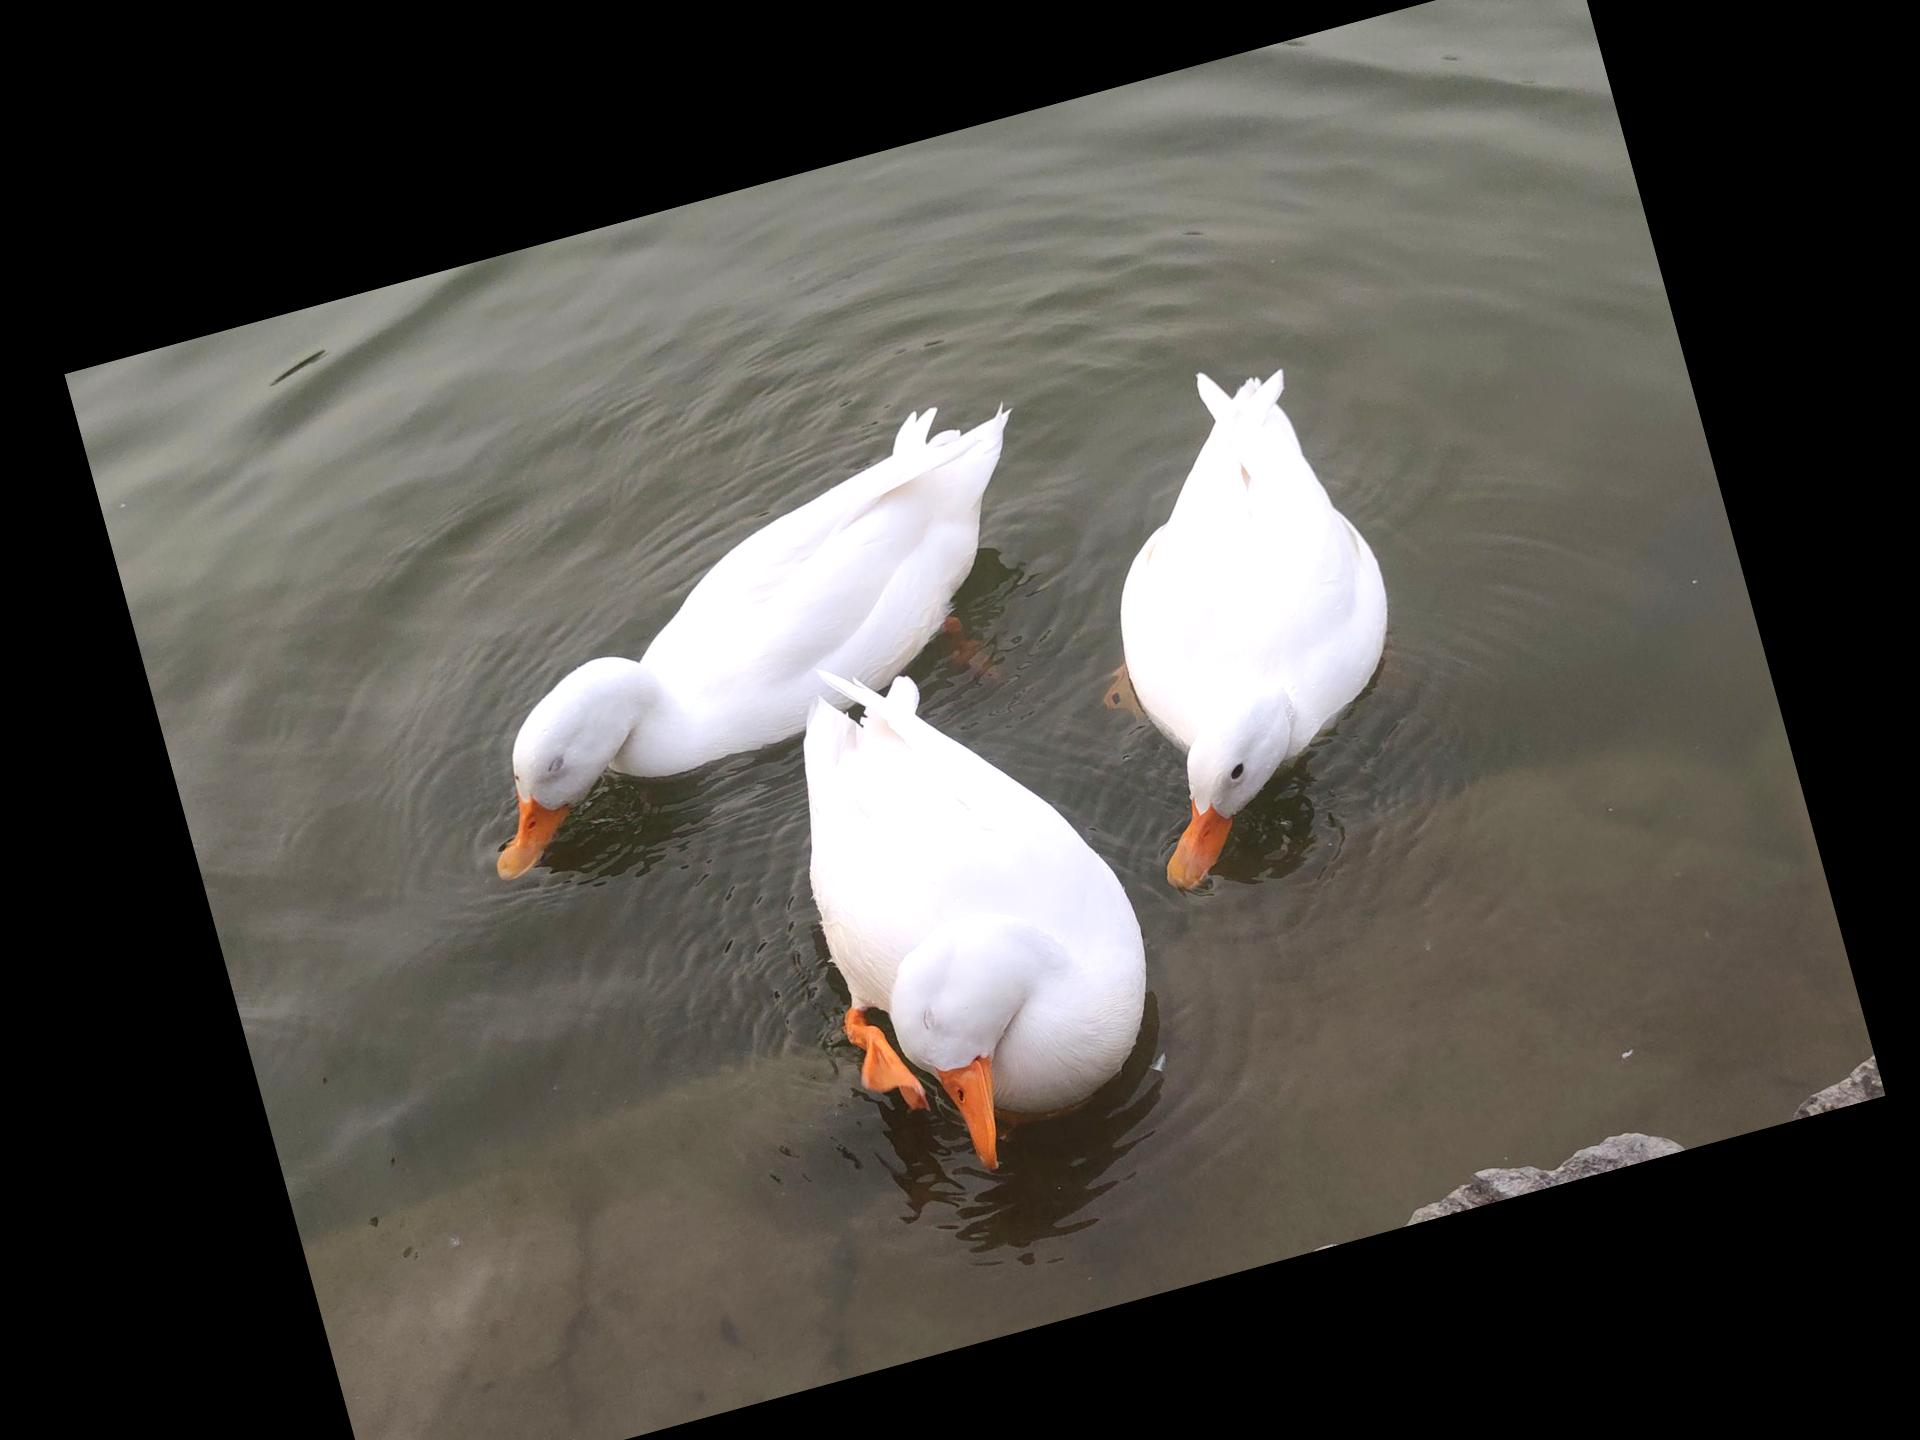duck: (387, 358, 1117, 902), (726, 591, 1209, 1210), (1027, 315, 1477, 902)
